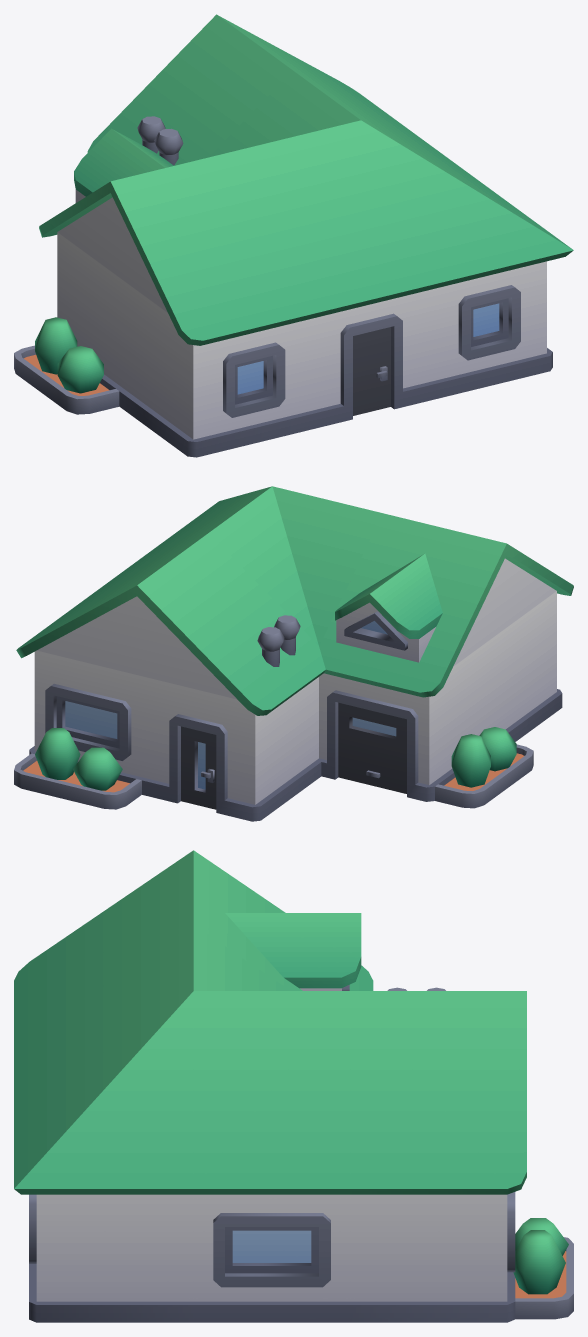
The model's file is house_suburb_m.glb.
3 renders of one model, top to bottom at view 1: azimuth 30°, elevation 25°; view 2: azimuth 150°, elevation 25°; view 3: azimuth 270°, elevation 25°, orthographic. The views are drawn at different scales.
Parts seen in each view (by area): view 1: building-type-m; view 2: building-type-m; view 3: building-type-m.
Boxes of the visible parts, x1,y1,x2,y2 form: building-type-m: [14, 14, 573, 457]; building-type-m: [14, 486, 573, 821]; building-type-m: [14, 850, 573, 1322].
Bounding box in the file's own units: 1.43 × 0.7375 × 1.43.
Materials: 1 (1 with a texture image).
